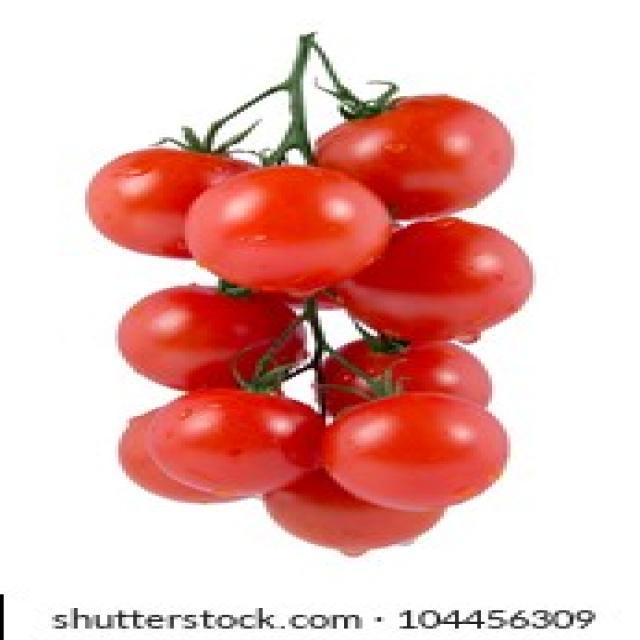kirmizi: (72, 80, 546, 560)
